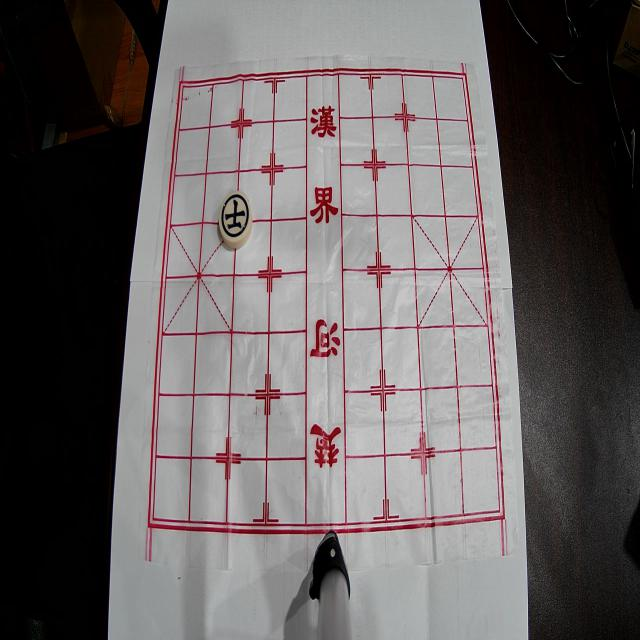black-guard: (219, 191, 252, 249)
